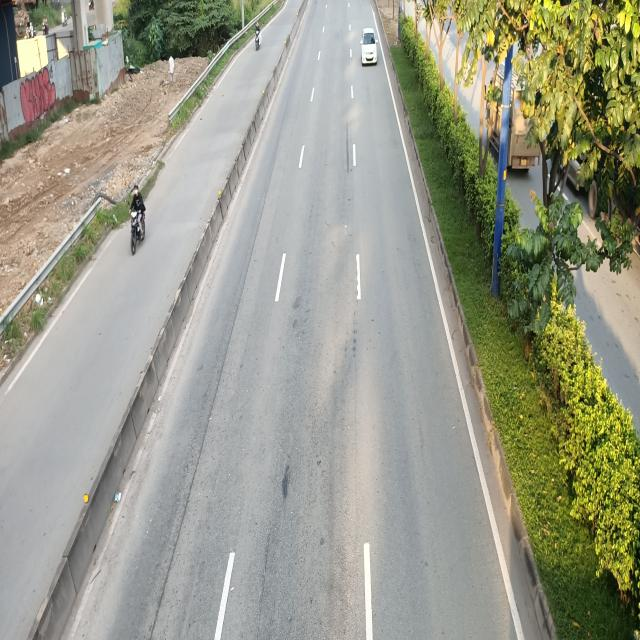car: (359, 26, 377, 64)
